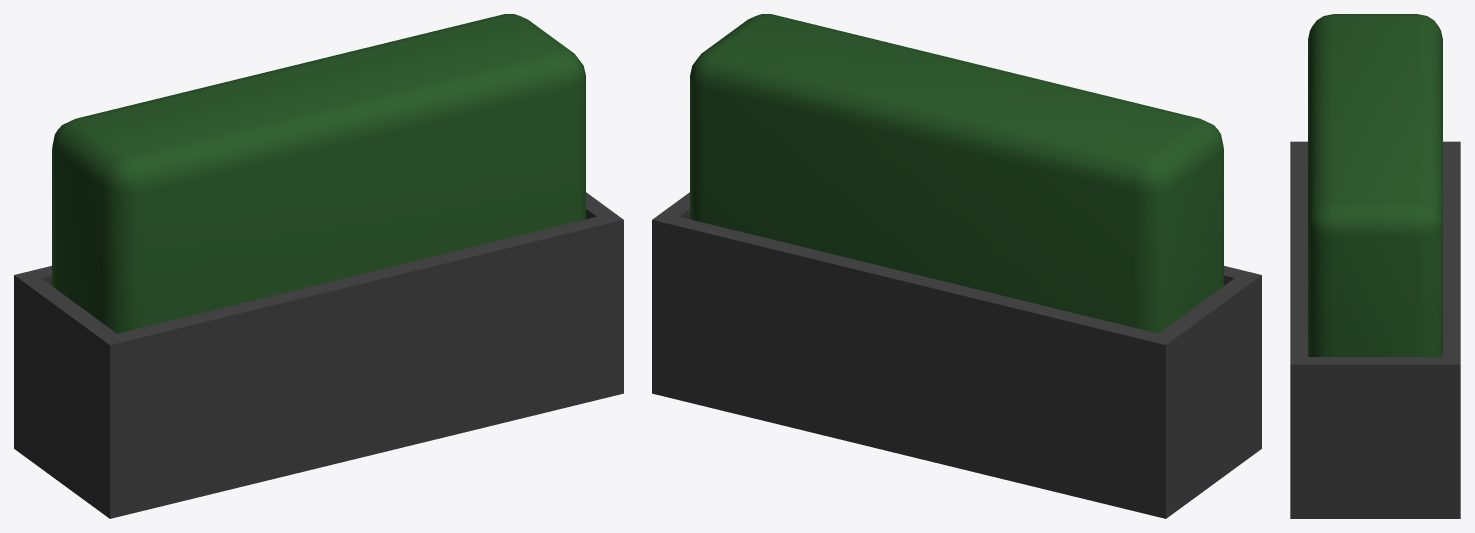
The model's file is object_B2_GF_Plant.glb.
3 renders of one model, left to right at view 1: azimuth 30°, elevation 25°; view 2: azimuth 150°, elevation 25°; view 3: azimuth 270°, elevation 25°, orthographic. The views are drawn at different scales.
Parts seen in each view (by area): view 1: B2 GF Plant; view 2: B2 GF Plant; view 3: B2 GF Plant.
Boxes of the visible parts, x1,y1,x2,y2 form: B2 GF Plant: (14, 14, 623, 518); B2 GF Plant: (652, 14, 1261, 518); B2 GF Plant: (1290, 14, 1460, 518).
Size of the model in its own units: 1.55 by 0.9654 by 0.5.
